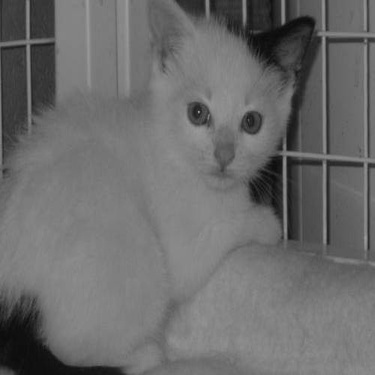cat: (11, 3, 316, 365)
